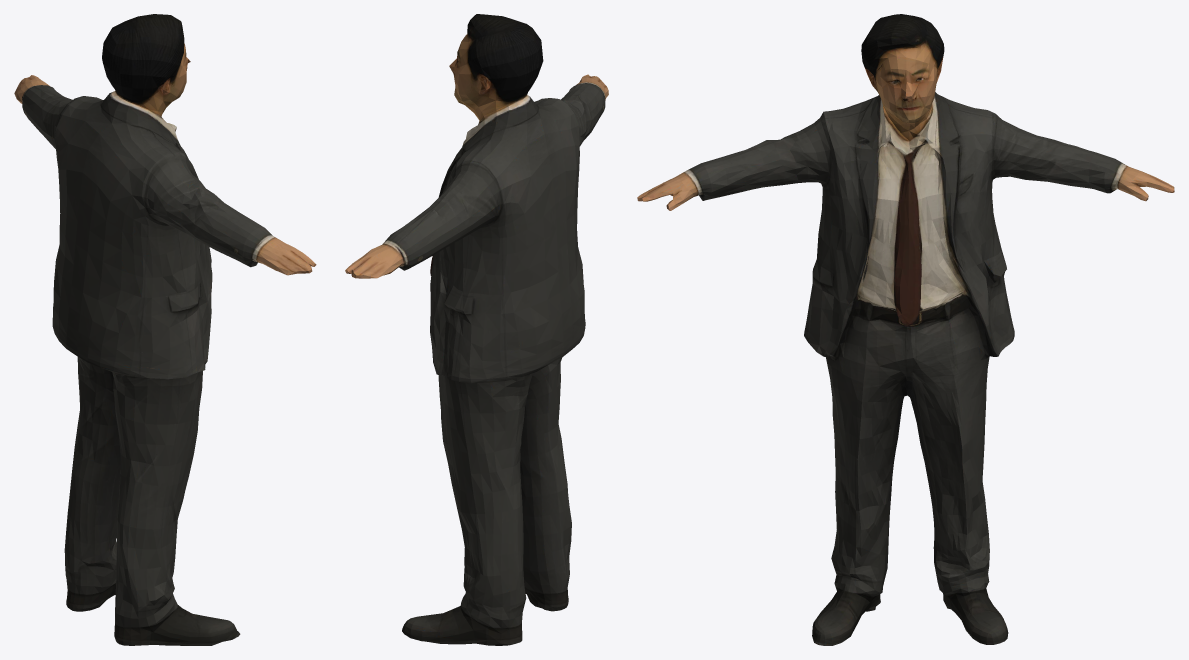
File: 原始中年男子.obj
3 renders of one model, left to right at view 1: azimuth 30°, elevation 25°; view 2: azimuth 150°, elevation 25°; view 3: azimuth 270°, elevation 25°, orthographic.
Visible parts, largest first — view 1: tripo_node_c31f3e37-ed3c-4368-bd4e-375ccb752dc1; view 2: tripo_node_c31f3e37-ed3c-4368-bd4e-375ccb752dc1; view 3: tripo_node_c31f3e37-ed3c-4368-bd4e-375ccb752dc1.
Boxes of the visible parts, bbox=[...] form: tripo_node_c31f3e37-ed3c-4368-bd4e-375ccb752dc1: bbox=[14, 14, 316, 645]; tripo_node_c31f3e37-ed3c-4368-bd4e-375ccb752dc1: bbox=[345, 14, 608, 645]; tripo_node_c31f3e37-ed3c-4368-bd4e-375ccb752dc1: bbox=[637, 14, 1174, 645].
Bounding box in the file's own units: 0.239 × 0.9978 × 0.8026.
Materials: 1 (1 with a texture image).
